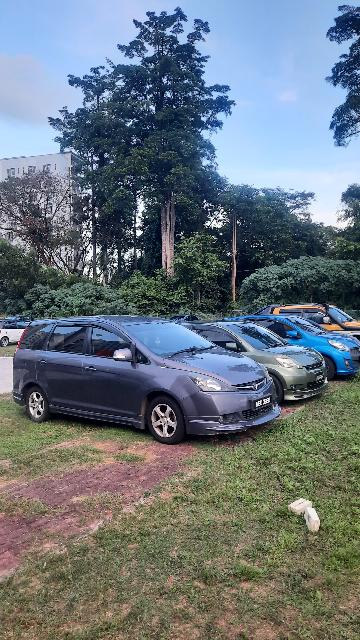License_Plate: (249, 394, 285, 413)
car: (11, 317, 289, 449)
